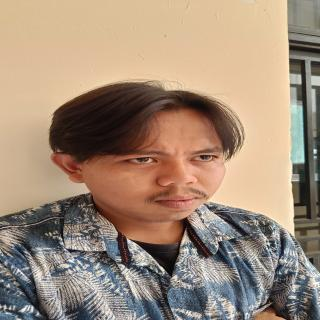Marah: (80, 102, 238, 231)
